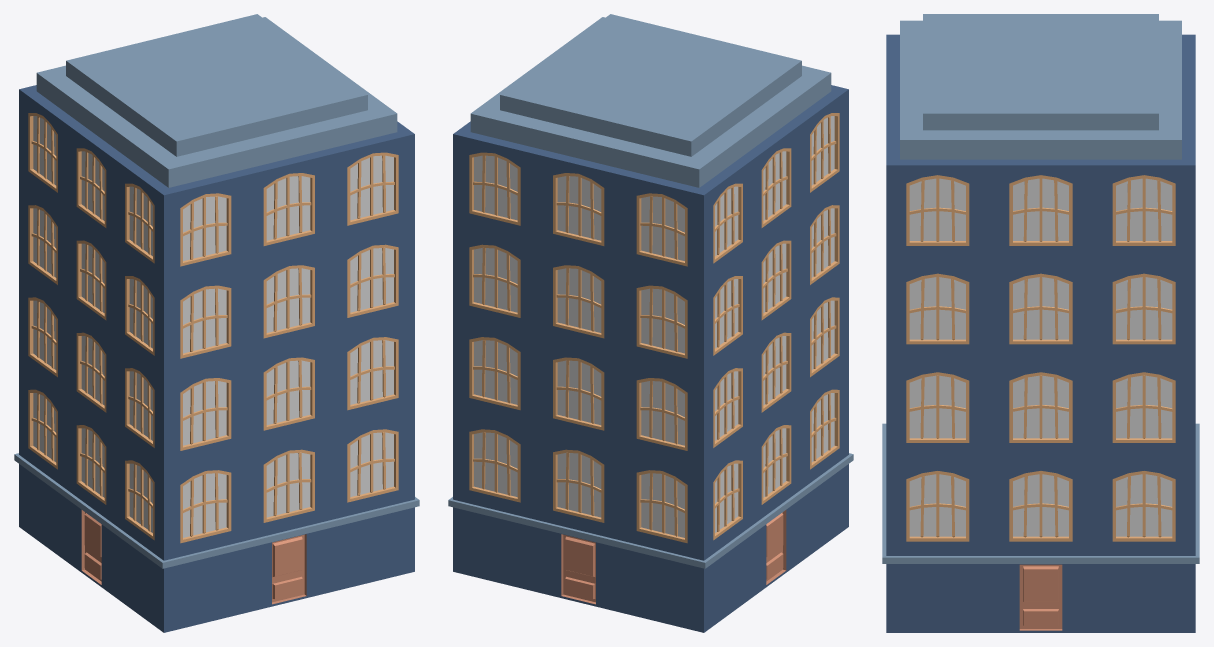
Rendered from cb-apartment-H.fbx.
3 renders of one model, left to right at view 1: azimuth 30°, elevation 25°; view 2: azimuth 150°, elevation 25°; view 3: azimuth 270°, elevation 25°, orthographic. The views are drawn at different scales.
Visible parts, largest first — view 1: cb-apartment-H; view 2: cb-apartment-H; view 3: cb-apartment-H.
Boxes of the visible parts, <box> form: cb-apartment-H: <box>14,14,419,632</box>; cb-apartment-H: <box>448,14,853,632</box>; cb-apartment-H: <box>882,14,1199,632</box>.
Bounding box in the file's own units: 10.02 × 17.56 × 10.02.
